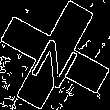N_NE: (25, 23, 85, 87)
